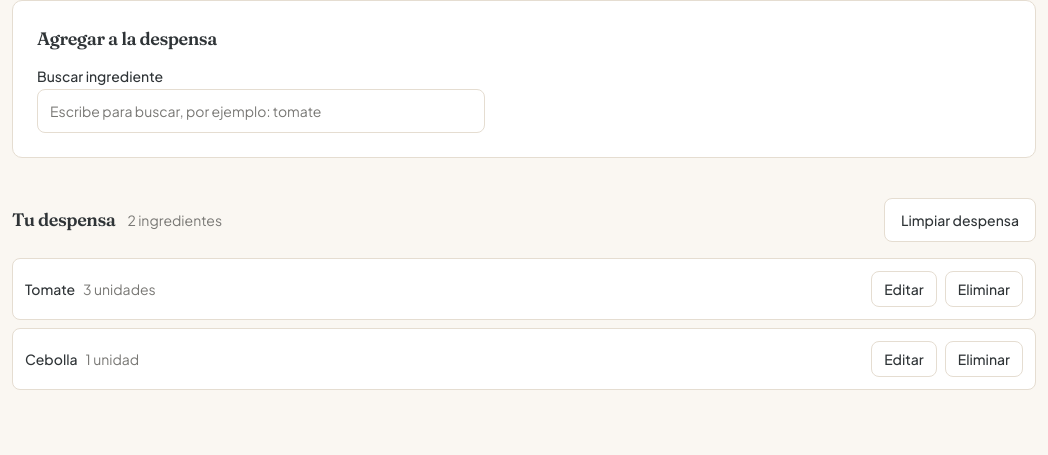
it: PantryManager › clears the pantry only after an explicit confirmation
Click the button "Limpiar despensa" at (960, 220), box [884,198,1036,242]
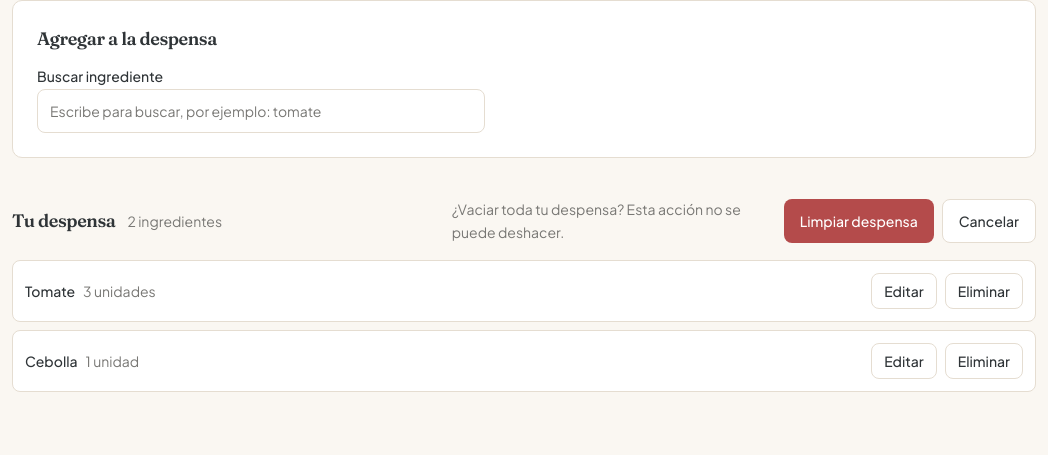
Now the text "¿Vaciar toda tu despensa? Esta acción no se puede deshacer." is shown, box [452,198,772,244]
Click the button "Limpiar despensa" at (859, 221), box [784,199,934,243]
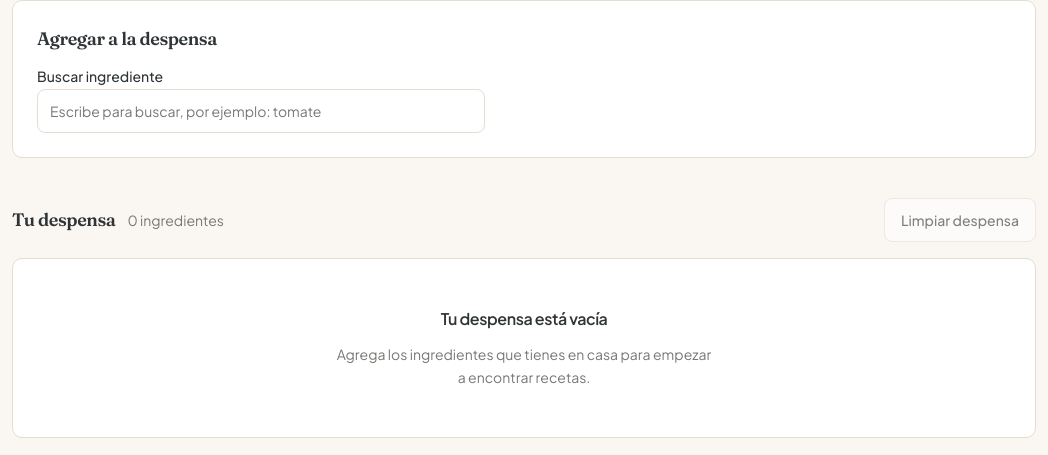
Now the heading "Tu despensa está vacía" is shown, box [441,307,607,331]
